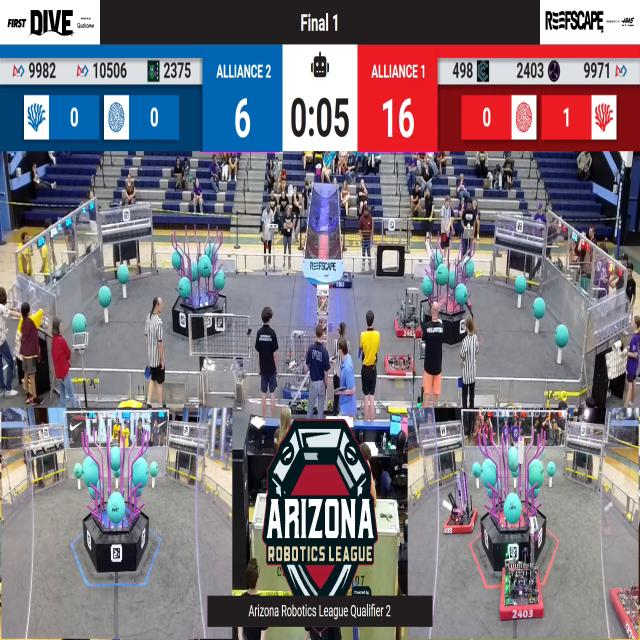scoreboard: (0, 47, 640, 149)
